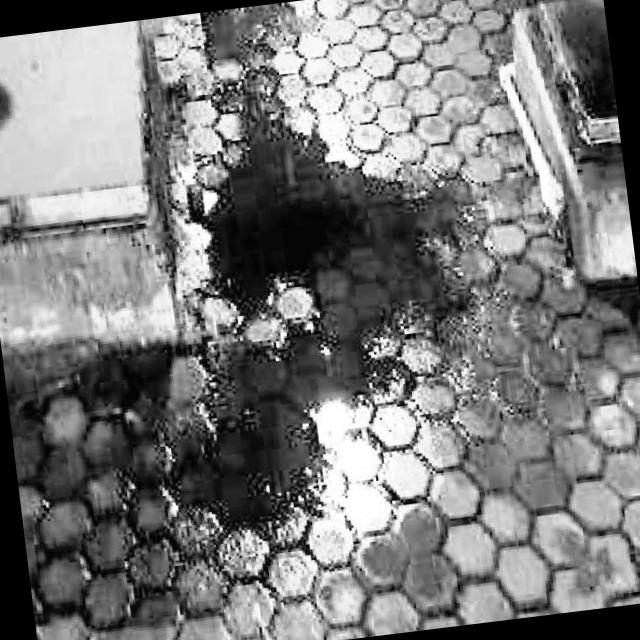Pothole: (96, 69, 533, 563), (181, 0, 320, 87)
